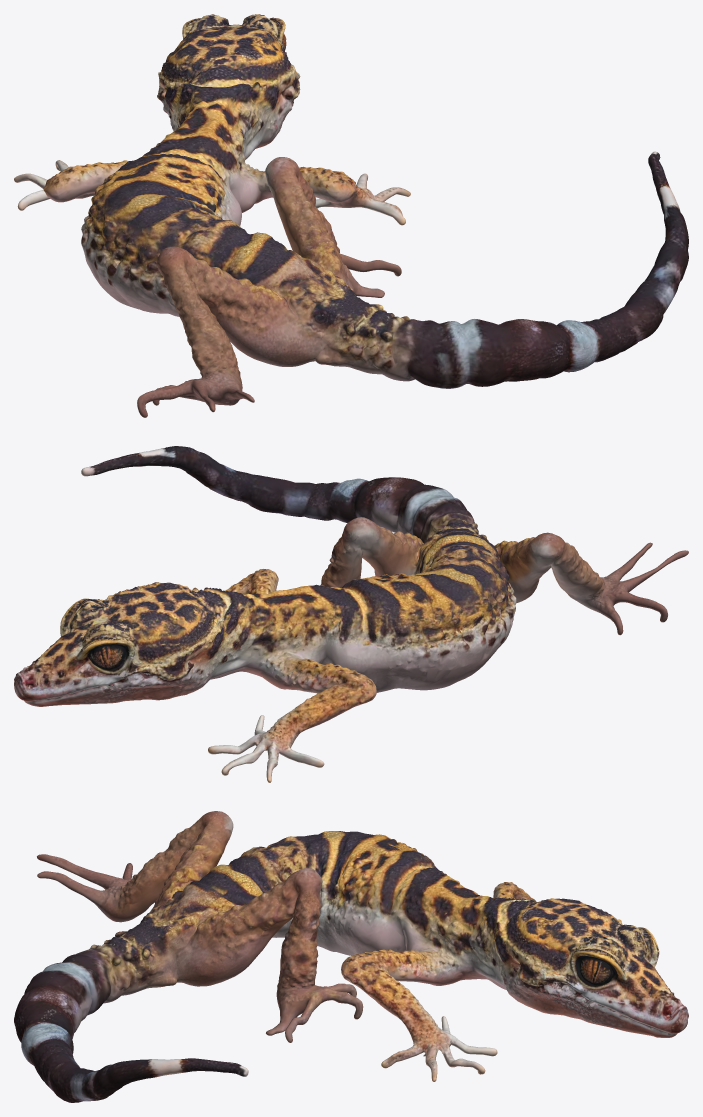
File: leopard-gecko.glb
The picture shows the model from 3 angles, top to bottom: view 1: azimuth 30°, elevation 25°; view 2: azimuth 150°, elevation 25°; view 3: azimuth 270°, elevation 25°; orthographic projection. The views are drawn at different scales.
Parts seen in each view (by area): view 1: tripo_node_5c028f55-cd06-44a6-ac16-07a933e26d5e; view 2: tripo_node_5c028f55-cd06-44a6-ac16-07a933e26d5e; view 3: tripo_node_5c028f55-cd06-44a6-ac16-07a933e26d5e.
Boxes of the visible parts, <box> form: tripo_node_5c028f55-cd06-44a6-ac16-07a933e26d5e: <box>14,14,688,417</box>; tripo_node_5c028f55-cd06-44a6-ac16-07a933e26d5e: <box>14,446,688,782</box>; tripo_node_5c028f55-cd06-44a6-ac16-07a933e26d5e: <box>14,811,688,1102</box>.
Bounding box in the file's own units: 0.9003 × 0.2096 × 0.9796.
Materials: 1 (1 with a texture image).
